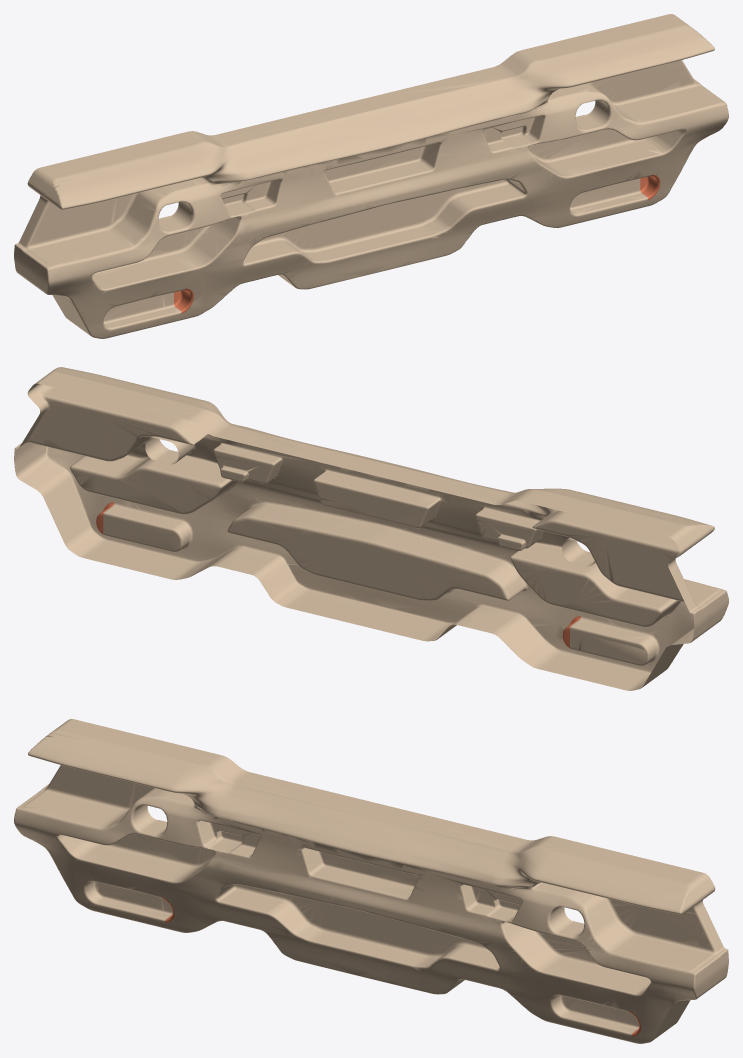
The model's file is mammut-diamond-finger.glb.
3 renders of one model, top to bottom at view 1: azimuth 30°, elevation 25°; view 2: azimuth 150°, elevation 25°; view 3: azimuth 330°, elevation 25°, orthographic.
Visible parts, largest first — view 1: body-board, mam-sloper-C, mam-lower-edge-C, mam-jug-L, mam-jug-R, mam-mid-edge-C, mam-lateral-ledge-R, mam-lateral-ledge-L, mam-upper-open-bay-L, mam-upper-pocket-C, mam-upper-open-bay-R, unresolved-lower-recess-R (+6 smaller); view 2: body-board, mam-lower-edge-C, mam-lateral-ledge-R, mam-lateral-ledge-L, mam-upper-open-bay-R, mam-upper-open-bay-L, mam-upper-pocket-C, unresolved-lower-recess-R, unresolved-lower-recess-L, mam-mid-edge-C, mam-jug-L, mam-jug-R (+5 smaller); view 3: body-board, mam-sloper-C, mam-lower-edge-C, mam-jug-R, mam-jug-L, mam-mid-edge-C, mam-lateral-ledge-L, mam-lateral-ledge-R, mam-upper-open-bay-R, mam-upper-pocket-C, mam-upper-open-bay-L, unresolved-lower-recess-R (+6 smaller).
Boxes of the visible parts, <box> form: body-board: <box>14,14,728,338</box>; mam-sloper-C: <box>213,67,536,181</box>; mam-lower-edge-C: <box>241,177,528,266</box>; mam-jug-L: <box>34,140,207,209</box>; mam-jug-R: <box>545,19,714,86</box>; mam-mid-edge-C: <box>235,149,537,240</box>; mam-lateral-ledge-R: <box>526,115,687,179</box>; mam-lateral-ledge-L: <box>90,213,243,292</box>; mam-upper-open-bay-L: <box>27,177,213,245</box>; mam-upper-pocket-C: <box>322,140,443,196</box>; mam-upper-open-bay-R: <box>547,60,695,122</box>; unresolved-lower-recess-R: <box>568,174,651,217</box>; body-board: <box>14,377,728,690</box>; mam-lower-edge-C: <box>227,500,528,600</box>; mam-lateral-ledge-R: <box>70,453,239,514</box>; mam-lateral-ledge-L: <box>510,541,684,627</box>; mam-upper-open-bay-R: <box>27,397,210,460</box>; mam-upper-open-bay-L: <box>532,509,690,600</box>; mam-upper-pocket-C: <box>313,467,443,528</box>; unresolved-lower-recess-R: <box>103,502,193,552</box>; unresolved-lower-recess-L: <box>570,616,660,665</box>; mam-mid-edge-C: <box>235,479,517,555</box>; mam-jug-L: <box>545,489,714,549</box>; mam-jug-R: <box>34,367,204,418</box>; body-board: <box>14,719,728,1043</box>; mam-sloper-C: <box>206,772,529,886</box>; mam-lower-edge-C: <box>214,882,501,972</box>; mam-jug-R: <box>535,845,708,914</box>; mam-jug-L: <box>28,724,197,791</box>; mam-mid-edge-C: <box>205,854,507,945</box>; mam-lateral-ledge-L: <box>55,820,216,884</box>; mam-lateral-ledge-R: <box>499,918,652,997</box>; mam-upper-open-bay-R: <box>529,882,715,950</box>; mam-upper-pocket-C: <box>299,845,420,901</box>; mam-upper-open-bay-L: <box>47,765,195,827</box>; unresolved-lower-recess-R: <box>549,993,639,1036</box>.
Size of the model in its own units: 0.8496 by 0.196 by 0.0782.
